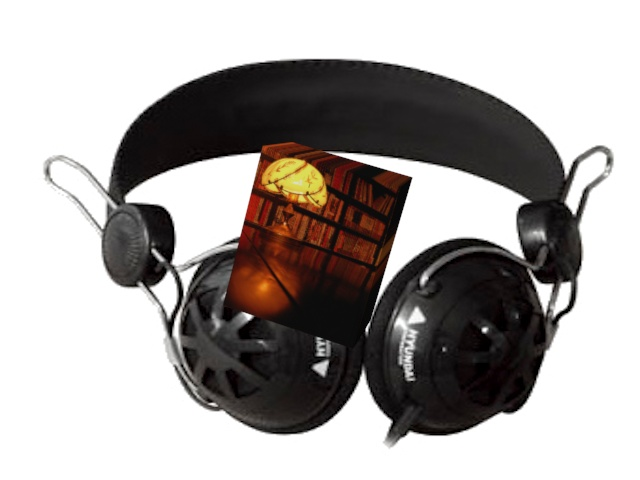file_cabinet: (217, 128, 417, 352)
